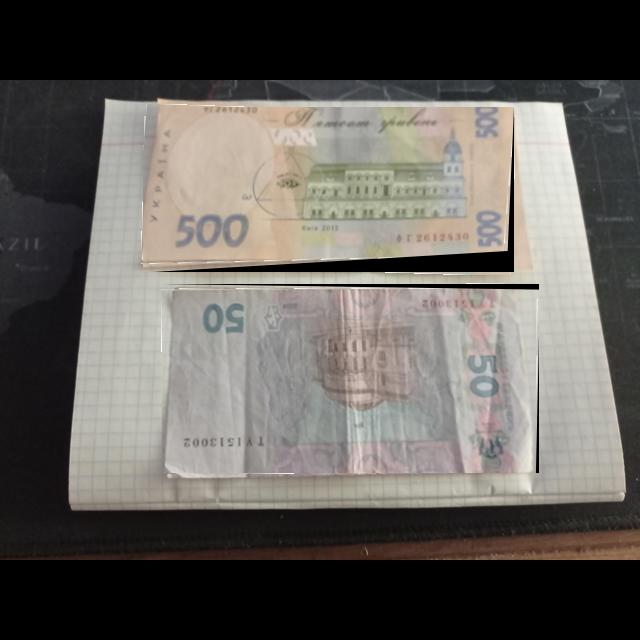500uah: (143, 107, 515, 273)
50uah: (162, 284, 540, 474)
